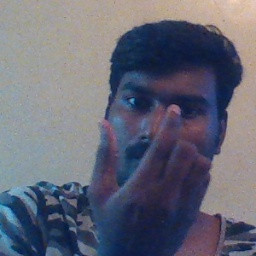U: (89, 103, 188, 227)
